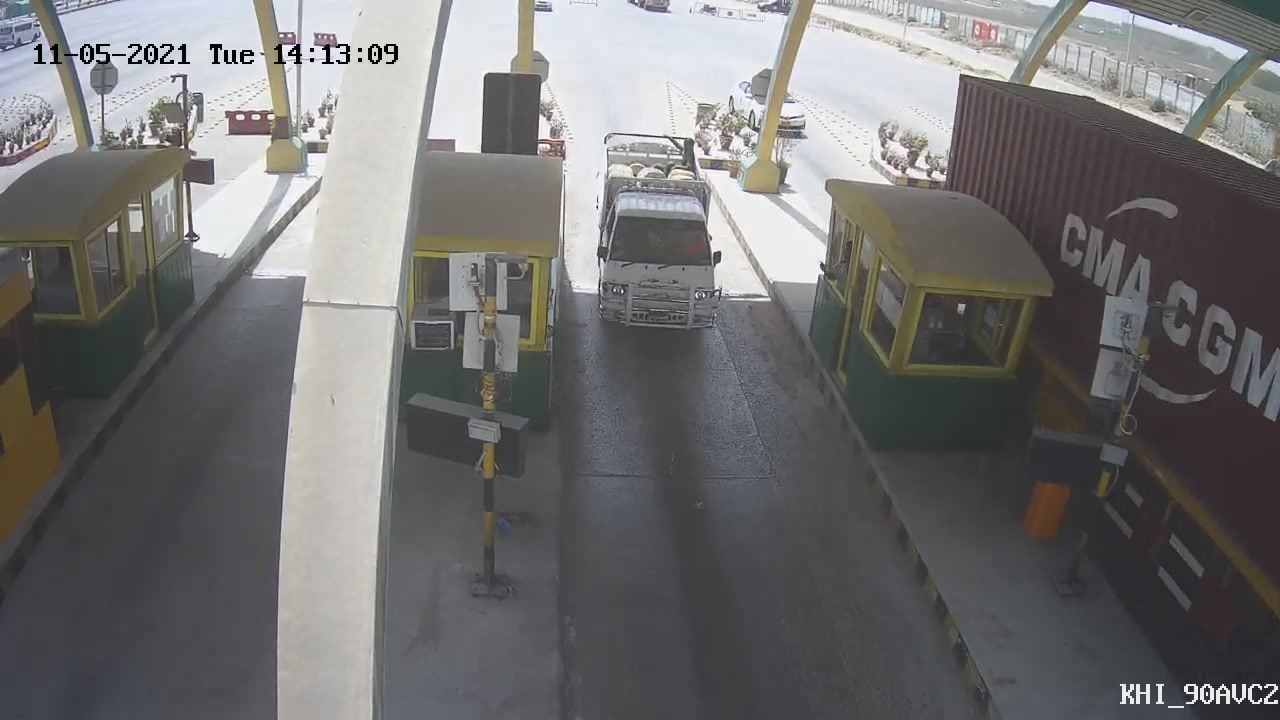F2: (595, 128, 736, 354)
